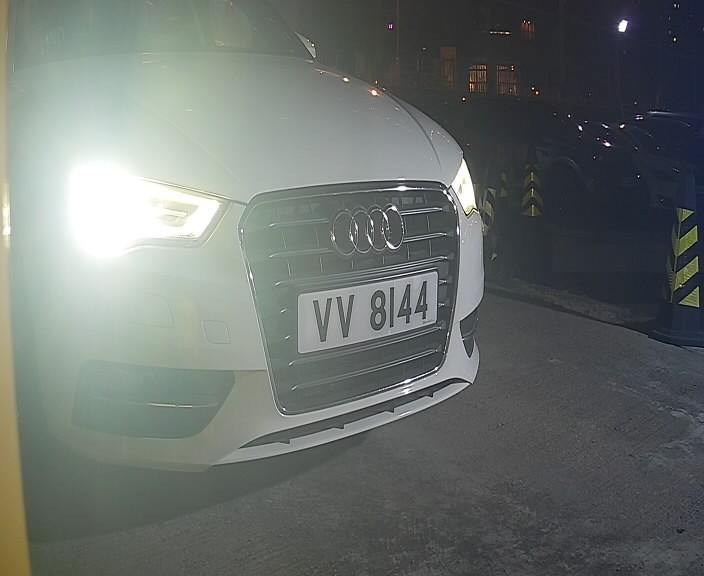License Plate: (287, 258, 437, 363)
